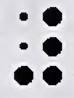number_sign: (14, 6, 63, 85)
